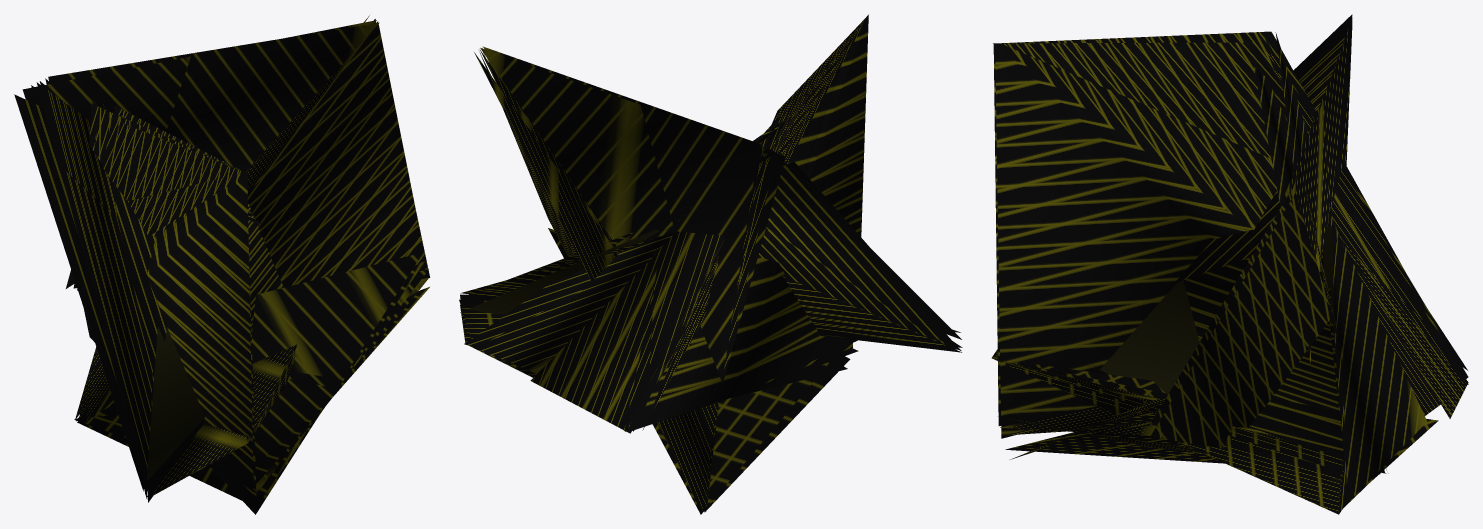
Rendered from datan_common_arm23_rkog_8b60d926.obj.
3 renders of one model, left to right at view 1: azimuth 30°, elevation 25°; view 2: azimuth 150°, elevation 25°; view 3: azimuth 270°, elevation 25°, orthographic. The views are drawn at different scales.
Parts seen in each view (by area): view 1: datan_common_arm23_rkog_8b60d926; view 2: datan_common_arm23_rkog_8b60d926; view 3: datan_common_arm23_rkog_8b60d926.
Boxes of the visible parts, left/top/right/bottom form: datan_common_arm23_rkog_8b60d926: left=14, top=15, right=430, bottom=514; datan_common_arm23_rkog_8b60d926: left=459, top=14, right=962, bottom=514; datan_common_arm23_rkog_8b60d926: left=991, top=14, right=1468, bottom=514.
Bounding box in the file's own units: 1.37 × 1.37 × 1.37.
1 material, 1 textured.
